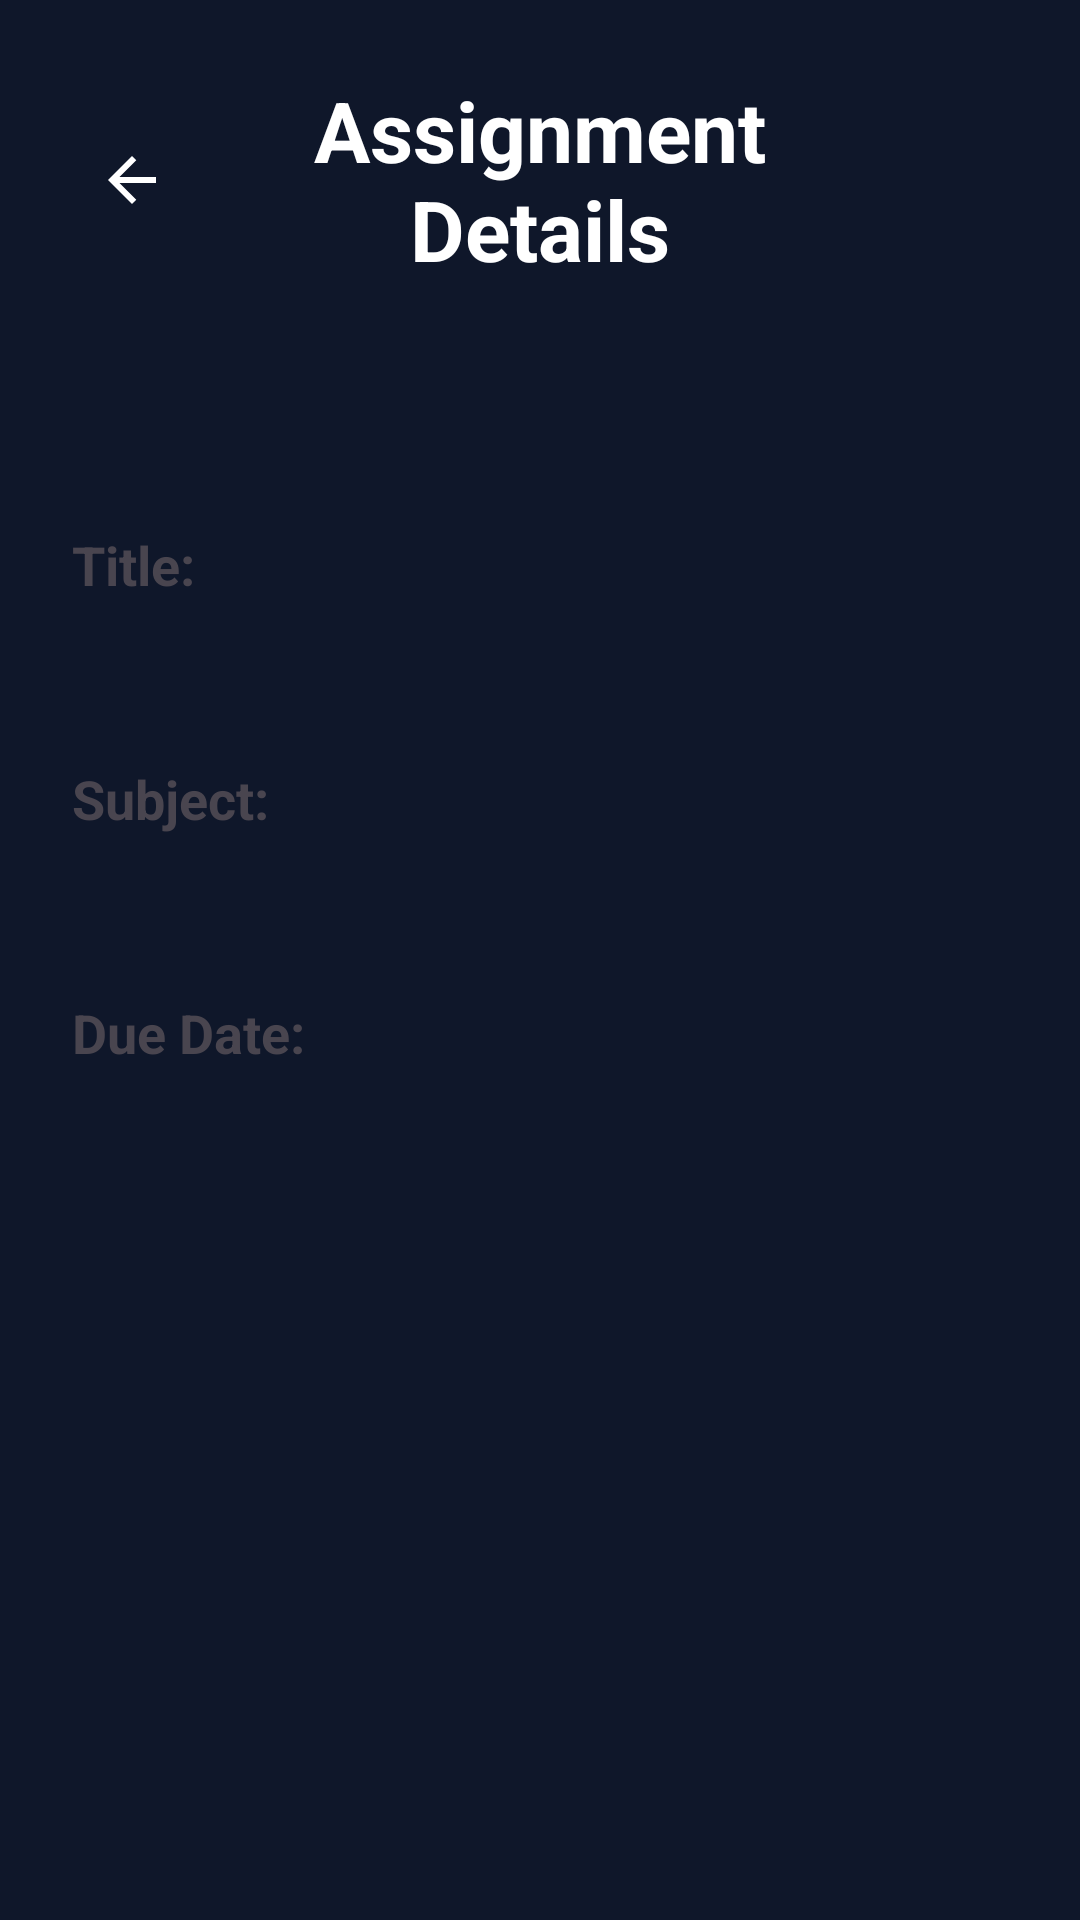

Icons on this 1080 × 1920 Android screen, each with the point to tap as (x=x, y=y):
Back: (x=132, y=180)
